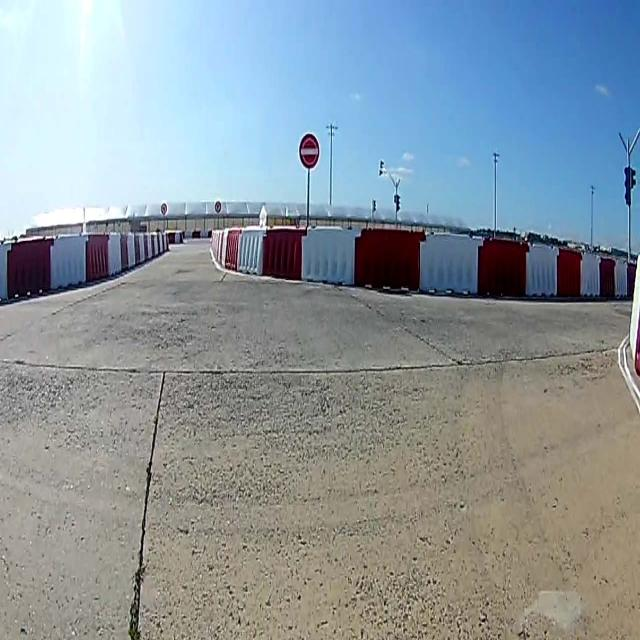girisyok: (302, 137, 318, 166)
